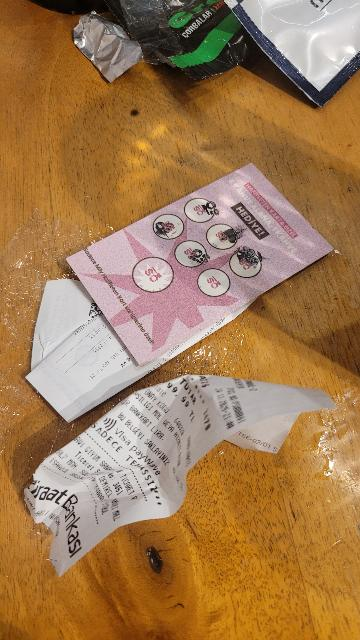Kagit: (24, 376, 337, 575), (64, 153, 332, 366)
